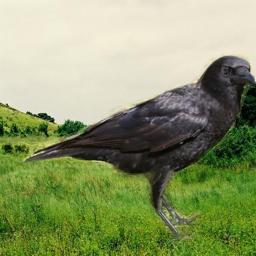Crow: (16, 54, 255, 243)
